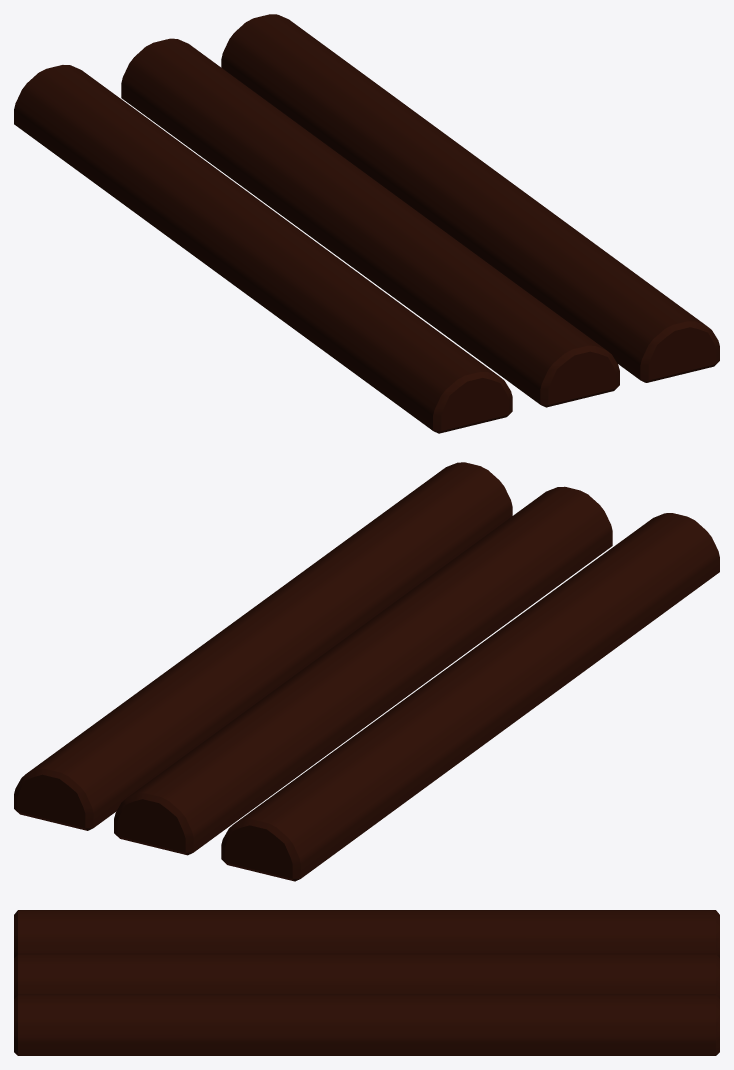
The model's file is bords.obj.
3 renders of one model, top to bottom at view 1: azimuth 30°, elevation 25°; view 2: azimuth 150°, elevation 25°; view 3: azimuth 270°, elevation 25°, orthographic. The views are drawn at different scales.
Parts seen in each view (by area): view 1: bords board4, bords board5, board3 bords; view 2: bords board5, bords board4, board3 bords; view 3: board3 bords, bords board5, bords board4.
Part boxes in pixels (box(x1,y1,x2,y2)): bords board4: box(121, 38, 619, 407); bords board5: box(14, 65, 512, 433); board3 bords: box(221, 14, 719, 382); bords board5: box(221, 513, 719, 881); bords board4: box(114, 486, 612, 855); board3 bords: box(14, 462, 512, 830); board3 bords: box(14, 994, 719, 1055); bords board5: box(14, 910, 719, 957); bords board4: box(14, 953, 719, 998).
Bounding box in the file's own units: 1.11 × 0.191 × 2.83.
